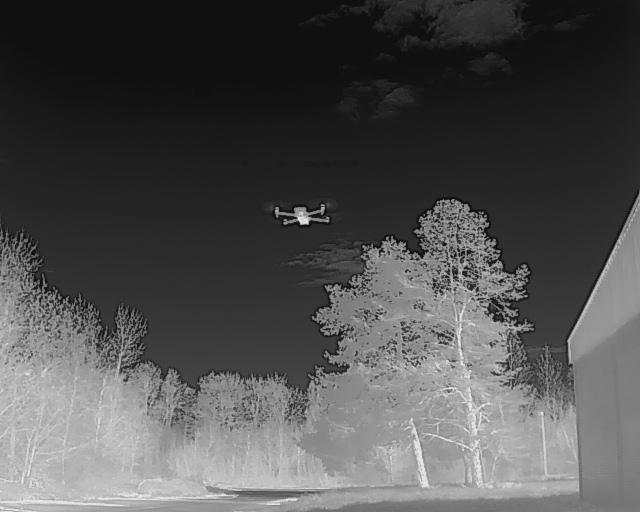drone: (262, 198, 332, 234)
